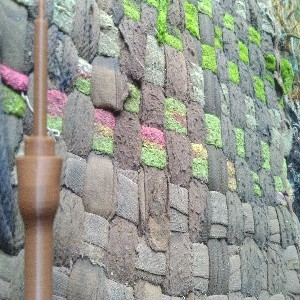solder: (14, 1, 64, 300)
